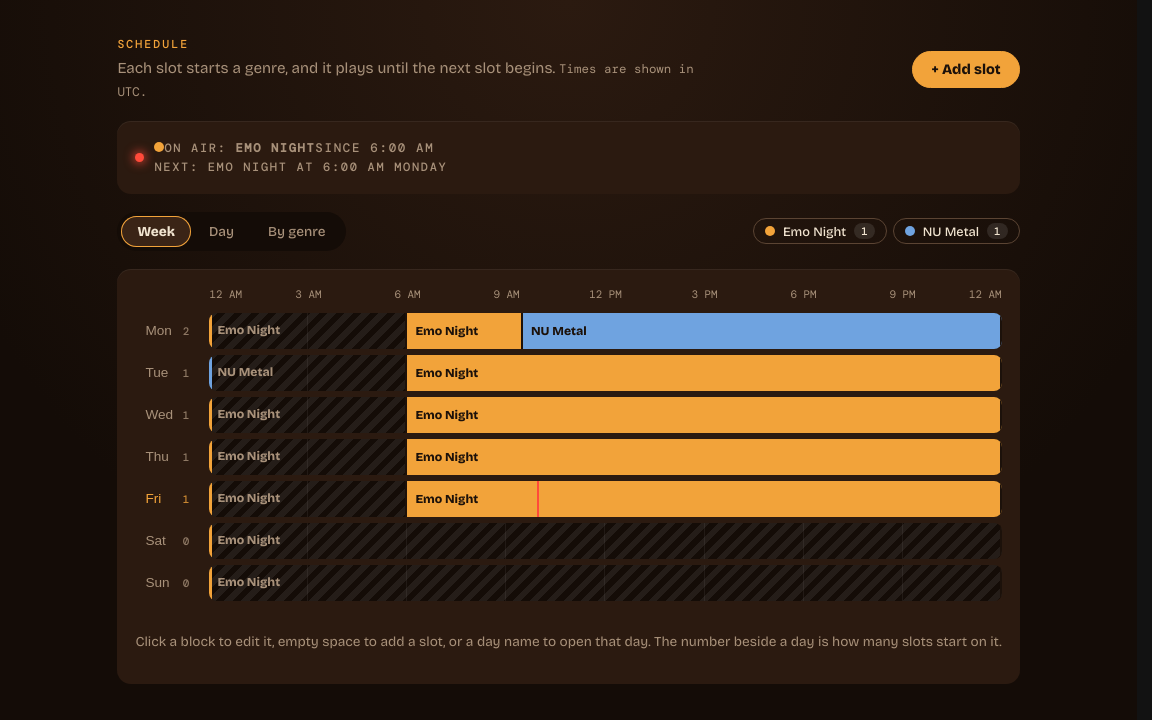
SchedulePanel › renders the week overview by default and opens a day from it
expect the text "On air:" is shown: met, box [164,140,235,156]
expect the element named "Monday timeline" is shown: met, box [209,312,1002,348]
Click the button with aria-label "Open Monday".
click(167, 330)  # box [135,317,199,344]
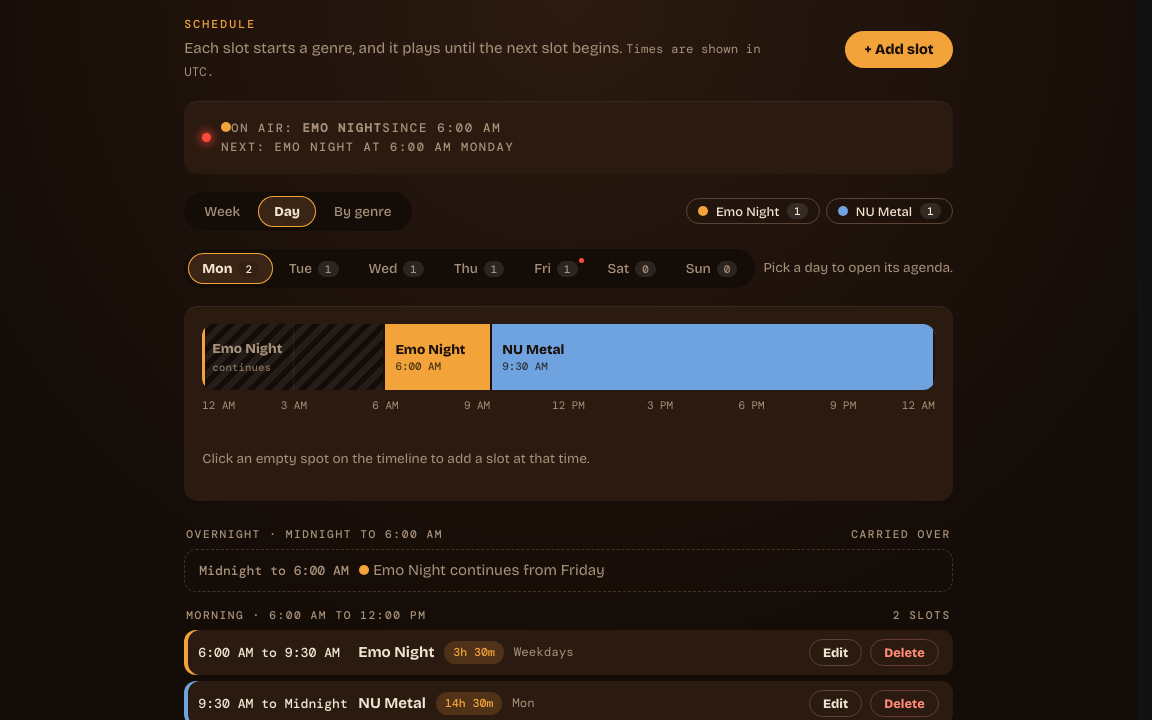
expect the element named "Timeline for Monday" is shown: met, box [202,324,935,390]
